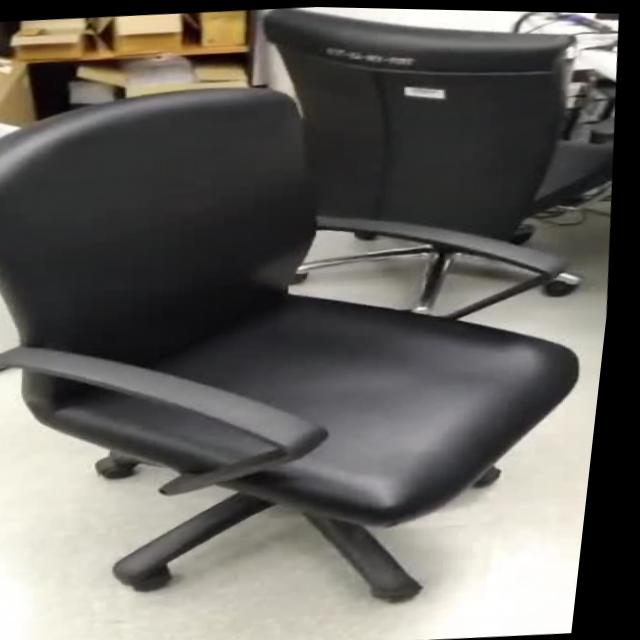chair: (0, 38, 637, 640)
